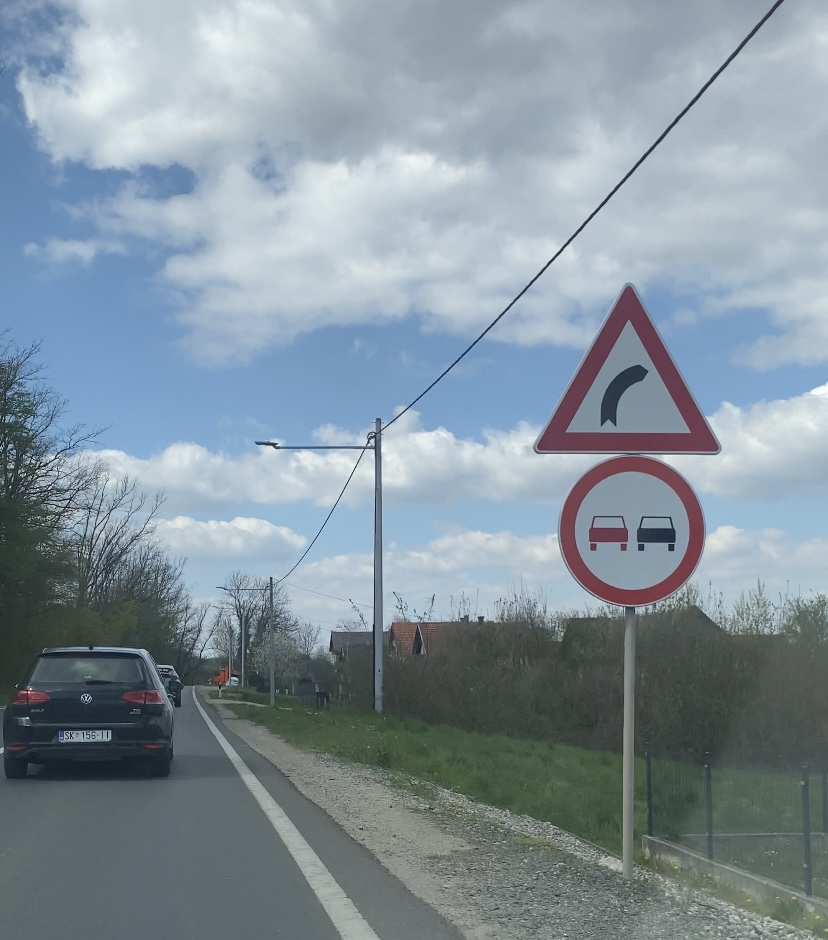Zabrana pretjecanja: (558, 455, 707, 607)
